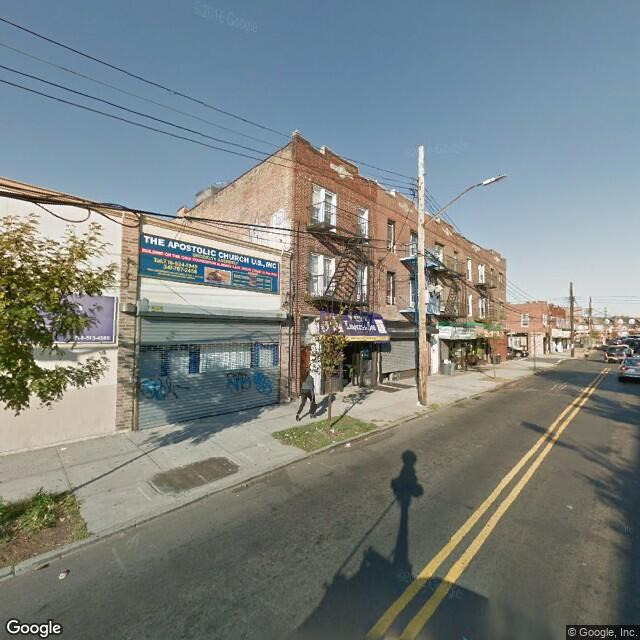litter: (55, 564, 72, 583), (333, 437, 356, 450), (52, 442, 73, 455), (410, 397, 428, 411), (324, 424, 342, 437), (299, 425, 313, 440)
